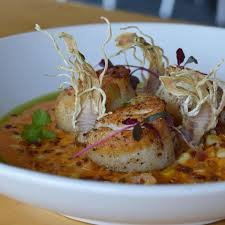curry: (21, 109, 56, 144)
